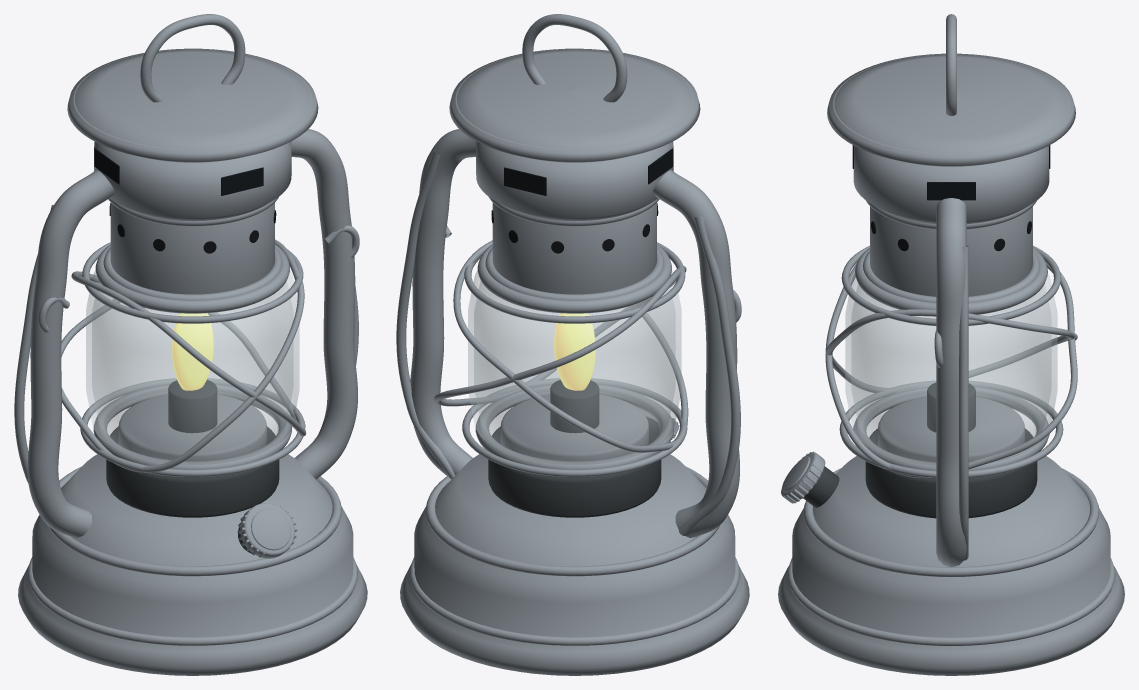
The model's file is HomebaseStableLantern_LOD00.gltf.
3 renders of one model, left to right at view 1: azimuth 30°, elevation 25°; view 2: azimuth 150°, elevation 25°; view 3: azimuth 270°, elevation 25°, orthographic.
Visible parts, largest first — view 1: StableLanternFuelTank, StableLanternGlass, StableLanternChimneyCap, StableLanternColdBlastTubeLeft, StableLanternColdBlastTubeRight, StableLanternLowerChimney, StableLanternUpperChimney, StableLanternBurnerCup, StableLanternBurnerCollar, StableLanternGlassSeatLower, StableLanternTankShoulderRing, StableLanternTankLowerSeam (+15 smaller); view 2: StableLanternFuelTank, StableLanternGlass, StableLanternChimneyCap, StableLanternLowerChimney, StableLanternColdBlastTubeRight, StableLanternUpperChimney, StableLanternColdBlastTubeLeft, StableLanternBurnerCup, StableLanternBurnerCollar, StableLanternGlassSeatLower, StableLanternTankShoulderRing, StableLanternGlassGuardLoopRight (+14 smaller); view 3: StableLanternFuelTank, StableLanternGlass, StableLanternChimneyCap, StableLanternUpperChimney, StableLanternColdBlastTubeRight, StableLanternLowerChimney, StableLanternBurnerCup, StableLanternBurnerCollar, StableLanternTankShoulderRing, StableLanternGlassSeatLower, StableLanternGlassGuardLoopLeft, StableLanternTankLowerSeam (+13 smaller).
Boxes of the visible parts, x1,y1,x2,y2 form: StableLanternFuelTank: [18, 454, 367, 675]; StableLanternGlass: [86, 270, 299, 464]; StableLanternChimneyCap: [67, 48, 318, 162]; StableLanternColdBlastTubeLeft: [27, 170, 114, 538]; StableLanternColdBlastTubeRight: [291, 129, 357, 479]; StableLanternLowerChimney: [110, 203, 274, 294]; StableLanternUpperChimney: [94, 141, 291, 221]; StableLanternBurnerCup: [106, 426, 279, 517]; StableLanternBurnerCollar: [118, 394, 266, 461]; StableLanternGlassSeatLower: [93, 384, 291, 469]; StableLanternTankShoulderRing: [47, 466, 341, 576]; StableLanternTankLowerSeam: [27, 557, 357, 645]; StableLanternFuelTank: [400, 454, 749, 675]; StableLanternGlass: [468, 270, 681, 464]; StableLanternChimneyCap: [449, 48, 700, 162]; StableLanternLowerChimney: [492, 203, 656, 294]; StableLanternColdBlastTubeRight: [410, 129, 476, 479]; StableLanternUpperChimney: [476, 141, 673, 221]; StableLanternColdBlastTubeLeft: [652, 170, 739, 537]; StableLanternBurnerCup: [488, 426, 661, 517]; StableLanternBurnerCollar: [500, 394, 648, 461]; StableLanternGlassSeatLower: [475, 384, 673, 469]; StableLanternTankShoulderRing: [425, 466, 719, 576]; StableLanternGlassGuardLoopRight: [453, 240, 688, 452]; StableLanternFuelTank: [778, 456, 1124, 675]; StableLanternGlass: [845, 274, 1057, 465]; StableLanternChimneyCap: [827, 53, 1075, 166]; StableLanternUpperChimney: [853, 146, 1049, 224]; StableLanternColdBlastTubeRight: [936, 198, 966, 567]; StableLanternLowerChimney: [870, 206, 1032, 296]; StableLanternBurnerCup: [865, 428, 1037, 518]; StableLanternBurnerCollar: [878, 397, 1024, 462]; StableLanternTankShoulderRing: [803, 468, 1099, 576]; StableLanternGlassSeatLower: [853, 386, 1049, 470]; StableLanternGlassGuardLoopLeft: [825, 262, 1077, 477]; StableLanternTankLowerSeam: [787, 558, 1115, 645].
Bounding box in the file's own units: 0.1546 × 0.2554 × 0.1364.
